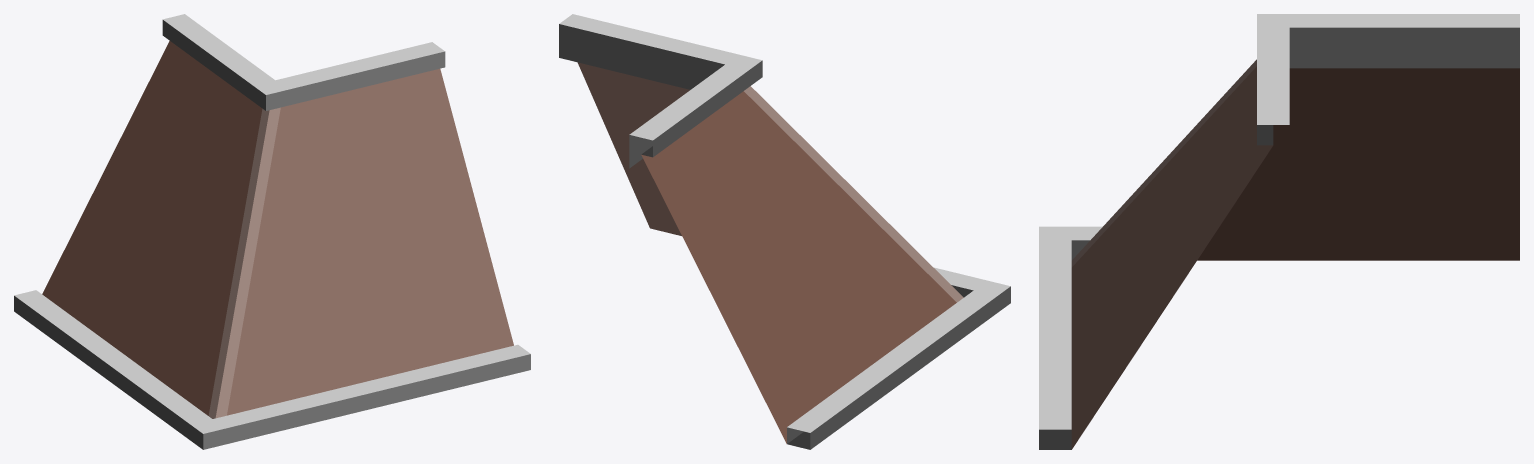
File: Roof03_LeftCorner.fbx
The picture shows the model from 3 angles, left to right: view 1: azimuth 30°, elevation 25°; view 2: azimuth 150°, elevation 25°; view 3: azimuth 270°, elevation 25°; orthographic projection. The views are drawn at different scales.
Parts seen in each view (by area): view 1: Roof03_LeftCorner; view 2: Roof03_LeftCorner; view 3: Roof03_LeftCorner.
Boxes of the visible parts, x1,y1,x2,y2 form: Roof03_LeftCorner: (14, 14, 530, 449); Roof03_LeftCorner: (559, 14, 1010, 449); Roof03_LeftCorner: (1039, 14, 1519, 449).
Size of the model in its own units: 1.07 by 0.8 by 1.07.
